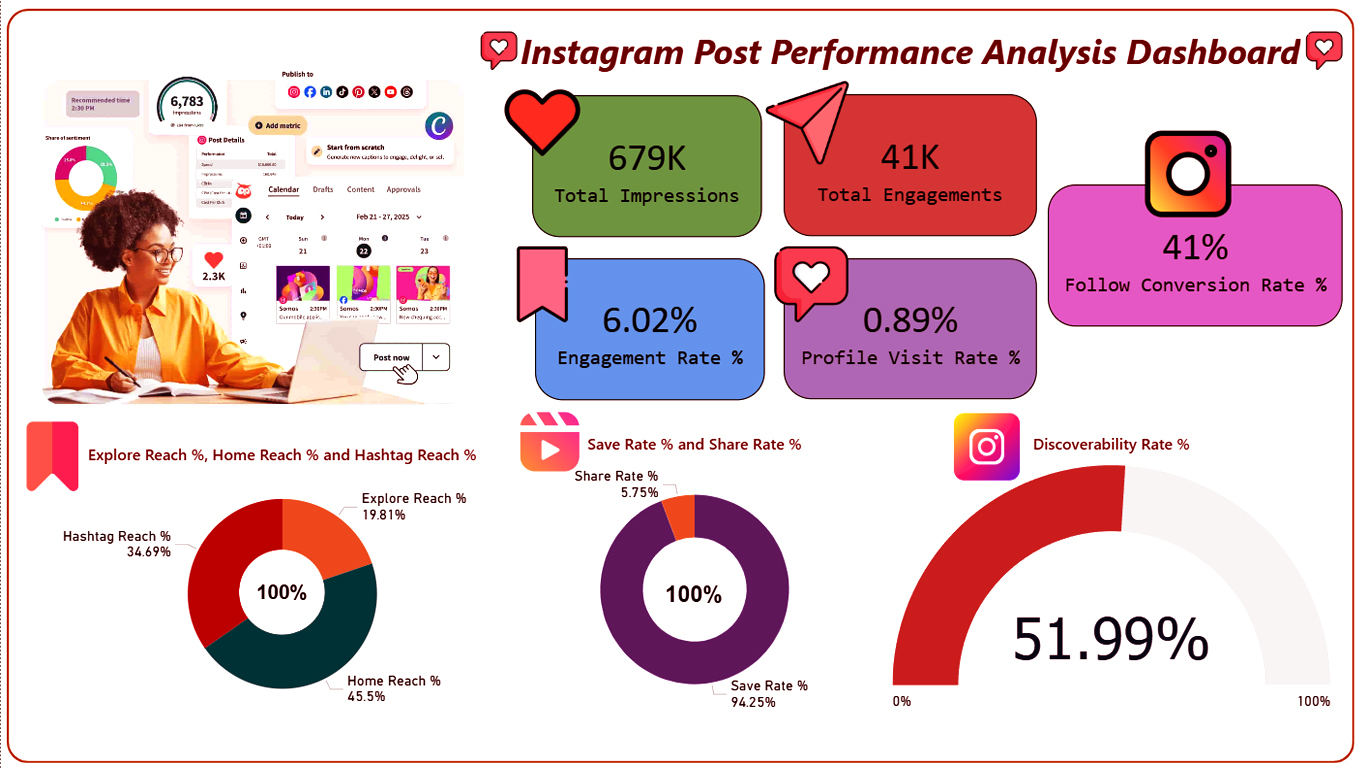

The dashboard page shown, as its layout file describes it:
{"tool":"powerbi","page":{"name":"Page 1","canvas":[1280,720],"ordinal":0},"visuals":[{"type":"image","box":[19,56.2,441.6,348.2],"z":0},{"type":"card","fields":{"Values":["Instagram data.Total Impressions"]},"box":[498.7,88.9,215.8,133.3],"z":1000},{"type":"card","fields":{"Values":["Instagram data.Total Engagements"]},"box":[735.4,88,237.6,133.3],"z":2000},{"type":"card","fields":{"Values":["Instagram data.Engagement Rate %"]},"box":[501.5,241.8,215.7,132.9],"z":3000},{"type":"card","fields":{"Values":["Instagram data.Profile Visit Rate %"]},"box":[735.4,242.1,238.5,132.4],"z":4000},{"type":"card","fields":{"Values":["Instagram data.Follow Conversion Rate %"]},"box":[983.9,173.1,277.5,133.3],"z":5000},{"type":"pieChart","fields":{"Y":["Instagram data.Explore Reach %","Instagram data.Home Reach %","Instagram data.Hashtag Reach %"]},"box":[49,414.4,430.7,263],"z":6000},{"type":"donutChart","fields":{"Y":["Instagram data.Save Rate %","Instagram data.Share Rate %"]},"box":[479.7,404.4,343.7,274.8],"z":7000},{"type":"gauge","fields":{"Y":["Instagram data.Discoverability Rate %"]},"box":[832.4,404.4,421.7,272.9],"z":8000},{"type":"shape","box":[224,514.2,80.7,79.8],"z":9000},{"type":"shape","box":[610.7,516.8,80.9,79.9],"z":10000},{"type":"shape","box":[467.9,24.5,772.6,46.2],"z":10001},{"type":"image","box":[467.9,70.7,80.7,84.3],"z":10002},{"type":"image","box":[713.7,70.7,88,88],"z":10003},{"type":"image","box":[467.9,224,80.7,84.3],"z":10004},{"type":"image","box":[720.9,224,80.7,84.3],"z":10005},{"type":"image","box":[1070,116,90.7,92.5],"z":10006},{"type":"image","box":[885.9,381.8,79.8,72.5],"z":10007},{"type":"image","box":[473.4,363.6,84.3,100.7],"z":10008},{"type":"image","box":[10.9,381.8,75.3,90.7],"z":10009},{"type":"image","box":[445.2,24.5,45.3,46.2],"z":10010},{"type":"image","box":[1220.6,24.5,45.3,46.2],"z":10011},{"type":"shape","box":[5.7,7.9,1266.4,706.4],"z":10012}]}

Visuals, with their boxes in screenshot pixels (x1, y1, x2, y2), scaled from the page's 1280x720 canvas onto the 1366x768 screenshot:
image: detection(20, 60, 492, 431)
card - Instagram data.Total Impressions: detection(532, 95, 763, 237)
card - Instagram data.Total Engagements: detection(785, 94, 1038, 236)
card - Instagram data.Engagement Rate %: detection(535, 258, 765, 400)
card - Instagram data.Profile Visit Rate %: detection(785, 258, 1039, 399)
card - Instagram data.Follow Conversion Rate %: detection(1050, 185, 1346, 327)
pieChart - Instagram data.Explore Reach % x Instagram data.Home Reach %: detection(52, 442, 512, 723)
donutChart - Instagram data.Save Rate % x Instagram data.Share Rate %: detection(512, 431, 879, 724)
gauge - Instagram data.Discoverability Rate %: detection(888, 431, 1338, 722)
shape: detection(239, 548, 325, 634)
shape: detection(652, 551, 738, 636)
shape: detection(499, 26, 1324, 75)
image: detection(499, 75, 585, 165)
image: detection(762, 75, 856, 169)
image: detection(499, 239, 585, 329)
image: detection(769, 239, 855, 329)
image: detection(1142, 124, 1239, 222)
image: detection(945, 407, 1031, 485)
image: detection(505, 388, 595, 495)
image: detection(12, 407, 92, 504)
image: detection(475, 26, 523, 75)
image: detection(1303, 26, 1351, 75)
shape: detection(6, 8, 1358, 762)
